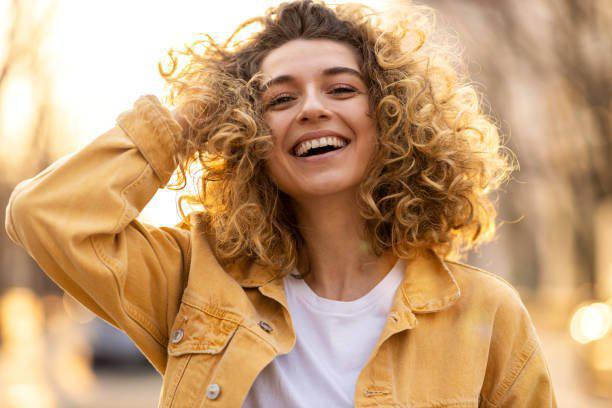Sober: (255, 47, 373, 182)
